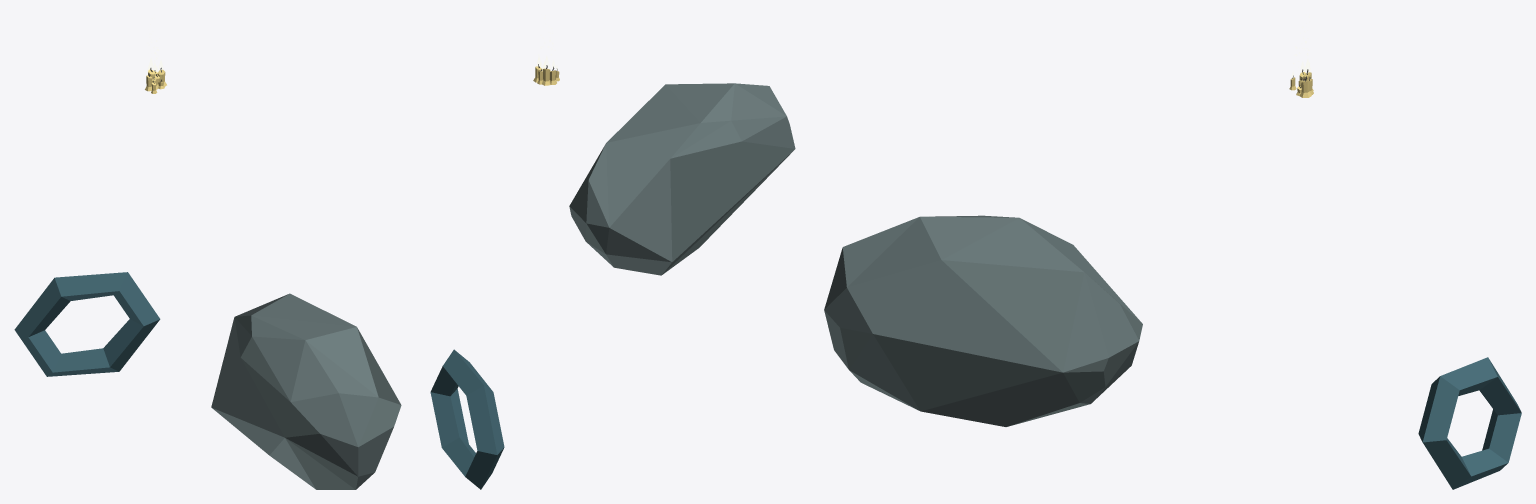
3 views of the same model, side by side, from view 1: azimuth 30°, elevation 25°; view 2: azimuth 150°, elevation 25°; view 3: azimuth 270°, elevation 25° (orthographic). The views are drawn at different scales.
Parts seen in each view (by area): view 1: Box279_rock_0, Torus085_metal_0; view 2: Box279_rock_0, Torus085_metal_0; view 3: Box279_rock_0, Torus085_metal_0.
Part boxes in pixels (x1,y1,x2,y2): Box279_rock_0: (211, 293, 401, 489); Torus085_metal_0: (14, 272, 160, 376); Box279_rock_0: (569, 83, 795, 275); Torus085_metal_0: (430, 349, 504, 489); Box279_rock_0: (824, 215, 1142, 426); Torus085_metal_0: (1418, 357, 1521, 489).
Bounding box in the file's own units: 418 × 1204 × 1622.
